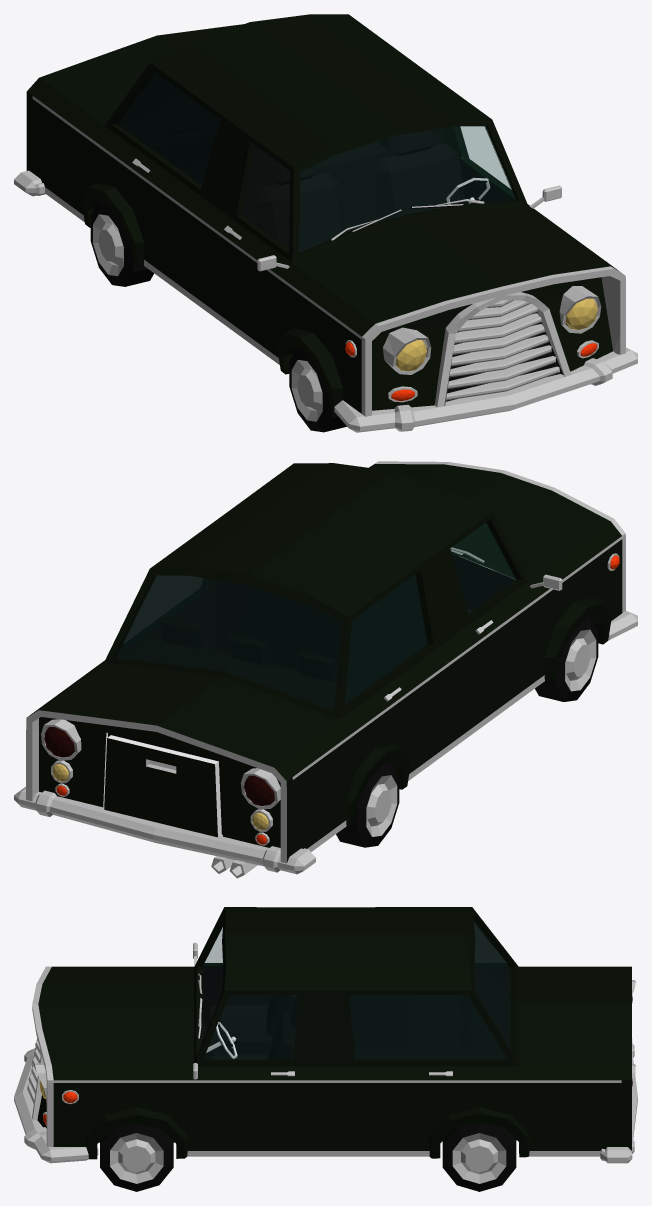
File: Sedan_01.FBX
The picture shows the model from 3 angles, top to bottom: view 1: azimuth 30°, elevation 25°; view 2: azimuth 150°, elevation 25°; view 3: azimuth 270°, elevation 25°; orthographic projection. The views are drawn at different scales.
Parts seen in each view (by area): view 1: Sedan_01, interior, grill, bumper_f, wheel_b_r, wheel_f_r, lights, headLights; view 2: Sedan_01, interior, bumper_b, wheel_b_r, wheel_f_r, lights, tailLights, exhausts; view 3: Sedan_01, interior, wheel_b_l, wheel_f_l, bumper_f, bumper_b, grill, lights.
Part boxes in pixels (x1=…): Sedan_01: x1=26, y1=14, x2=625, y2=416; interior: x1=118, y1=73, x2=516, y2=253; grill: x1=434, y1=292, x2=571, y2=407; bumper_f: x1=334, y1=347, x2=637, y2=432; wheel_b_r: x1=90, y1=201, x2=153, y2=286; wheel_f_r: x1=289, y1=347, x2=346, y2=432; lights: x1=345, y1=286, x2=601, y2=402; headLights: x1=396, y1=298, x2=597, y2=371; Sedan_01: x1=26, y1=461, x2=625, y2=869; interior: x1=108, y1=523, x2=515, y2=715; bumper_b: x1=14, y1=787, x2=315, y2=874; wheel_b_r: x1=336, y1=762, x2=399, y2=847; wheel_f_r: x1=535, y1=617, x2=598, y2=701; lights: x1=41, y1=553, x2=619, y2=845; tailLights: x1=44, y1=727, x2=274, y2=805; exhausts: x1=211, y1=856, x2=257, y2=878; Sedan_01: x1=32, y1=907, x2=631, y2=1159; interior: x1=201, y1=922, x2=518, y2=1062; wheel_b_l: x1=442, y1=1122, x2=516, y2=1191; wheel_f_l: x1=100, y1=1123, x2=173, y2=1191; bumper_f: x1=14, y1=1048, x2=98, y2=1163; bumper_b: x1=600, y1=1038, x2=637, y2=1163; grill: x1=27, y1=1038, x2=43, y2=1120; lights: x1=35, y1=980, x2=635, y2=1125.
Size of the model in its own units: 26.54 by 19.55 by 54.77.
